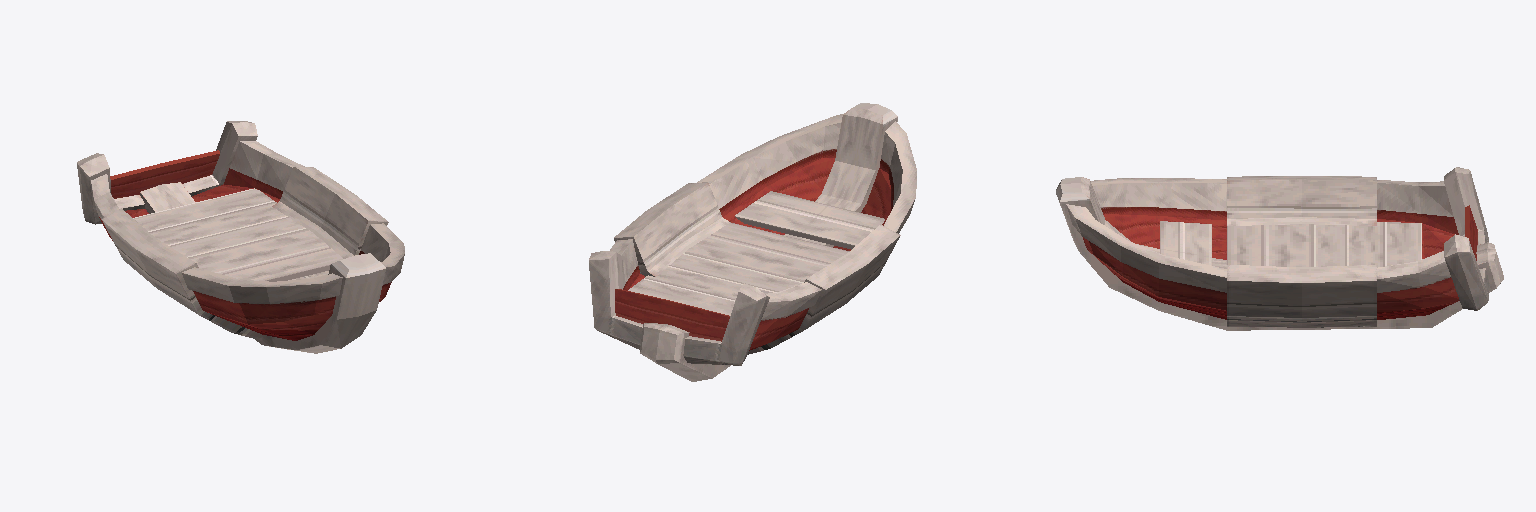
The picture shows the model from 3 angles: view 1: azimuth 30°, elevation 25°; view 2: azimuth 150°, elevation 25°; view 3: azimuth 270°, elevation 25°; orthographic projection.
Parts seen in each view (by area): view 1: Mesh_0367.rip; view 2: Mesh_0367.rip; view 3: Mesh_0367.rip.
Boxes of the visible parts, <box> form: Mesh_0367.rip: <box>77,121,404,353</box>; Mesh_0367.rip: <box>589,103,916,381</box>; Mesh_0367.rip: <box>1056,167,1503,330</box>.
Size of the model in its own units: 24.55 by 15.59 by 43.24.
Materials: 1 (1 with a texture image).